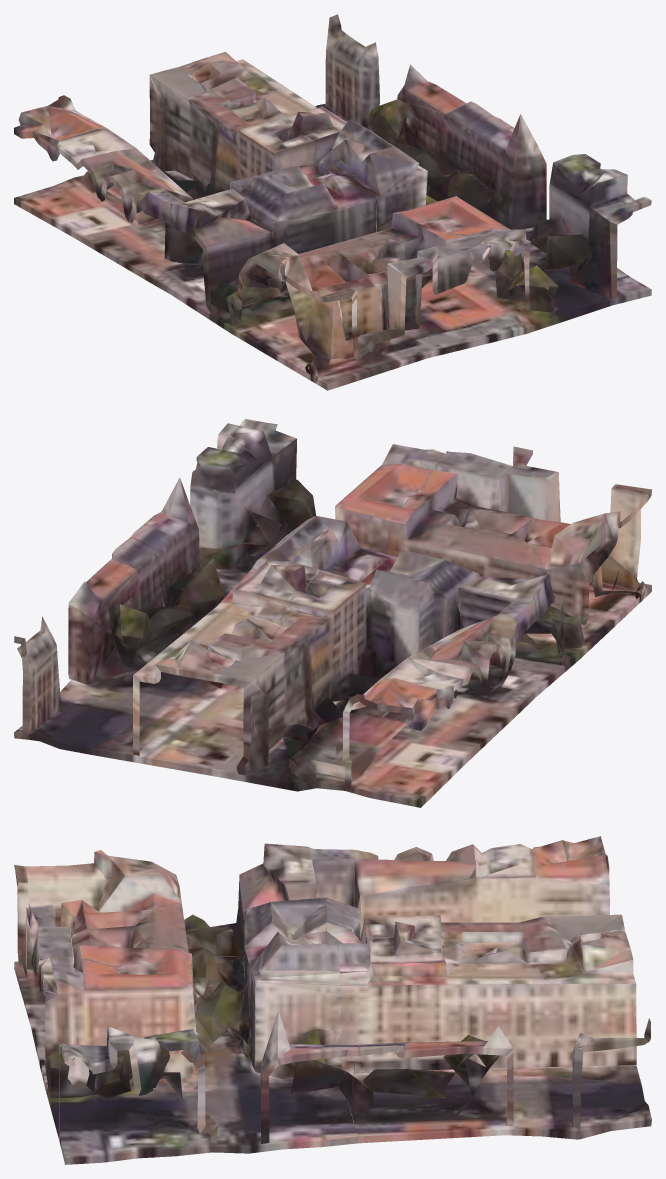
3 renders of one model, top to bottom at view 1: azimuth 30°, elevation 25°; view 2: azimuth 150°, elevation 25°; view 3: azimuth 270°, elevation 25°, orthographic. The views are drawn at different scales.
Parts seen in each view (by area): view 1: Mesh_0; view 2: Mesh_0; view 3: Mesh_0.
Part boxes in pixels (box(x1,y1,x2,y2)): Mesh_0: box(14, 14, 651, 390); Mesh_0: box(14, 419, 651, 807); Mesh_0: box(14, 836, 651, 1164).
Bounding box in the file's own units: 133 × 38.57 × 165.
1 material, 1 textured.
